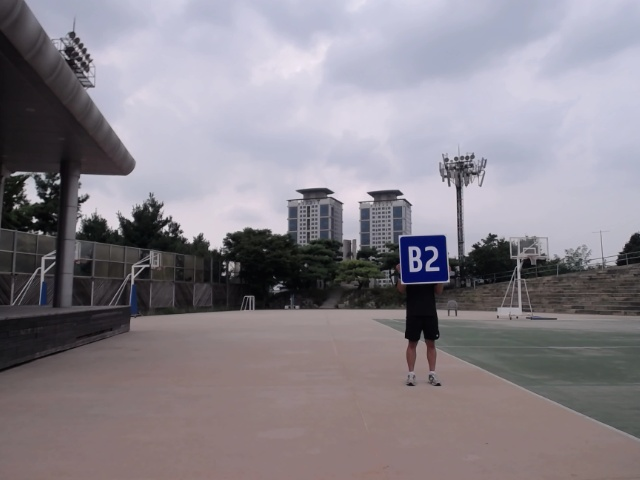delivery_b2: (399, 234, 451, 286)
